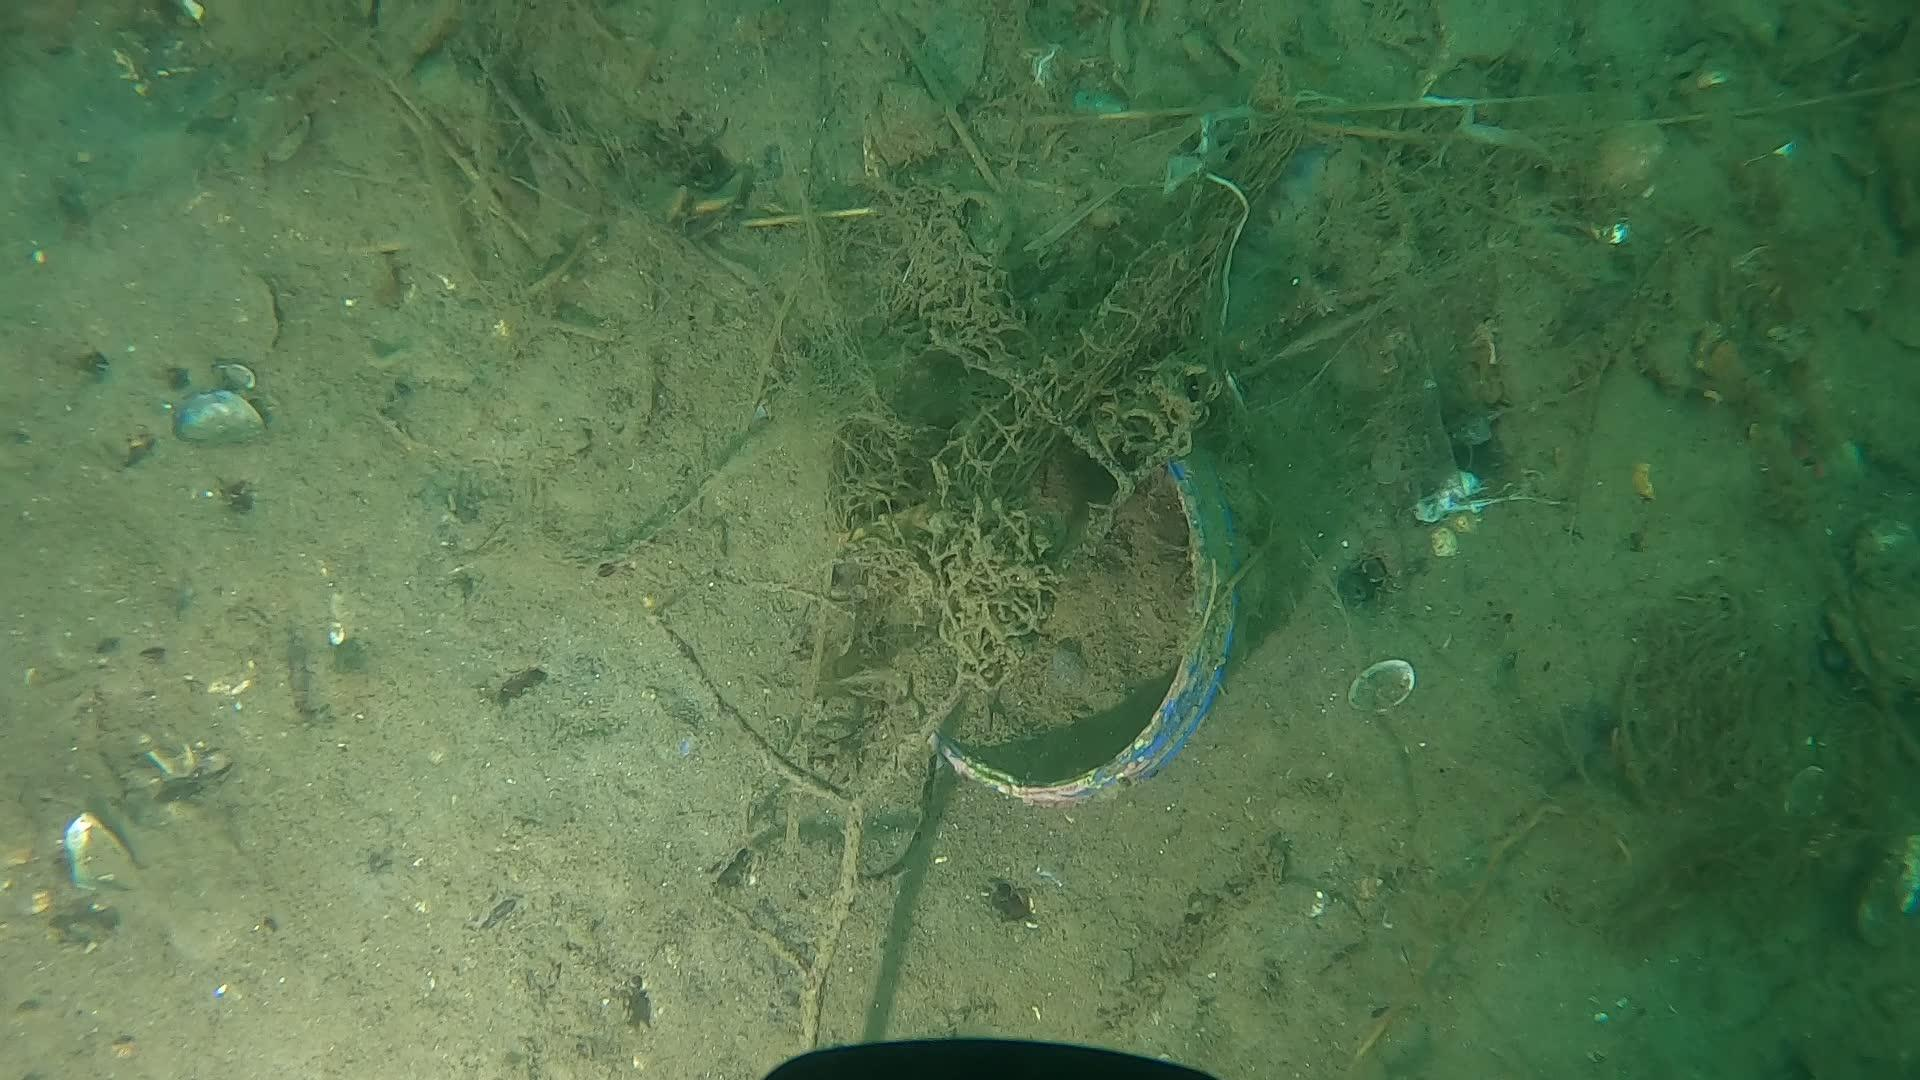fish net: (932, 196, 1226, 491)
rope: (738, 204, 866, 225)
